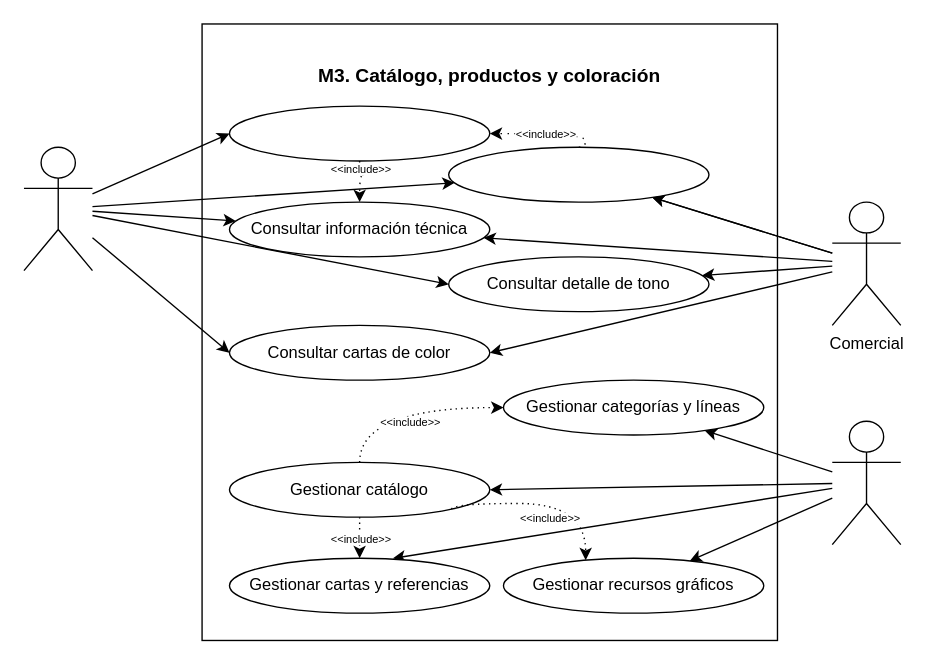
This 927x664 diagram has some shape labels left out. Each missing label, with the box of its shape:
Admin: (831, 420, 901, 545)
Buscar y filtrar productos: (447, 146, 709, 202)
Cliente: (23, 146, 92, 271)
Consultar catálogo de productos: (228, 105, 490, 161)
